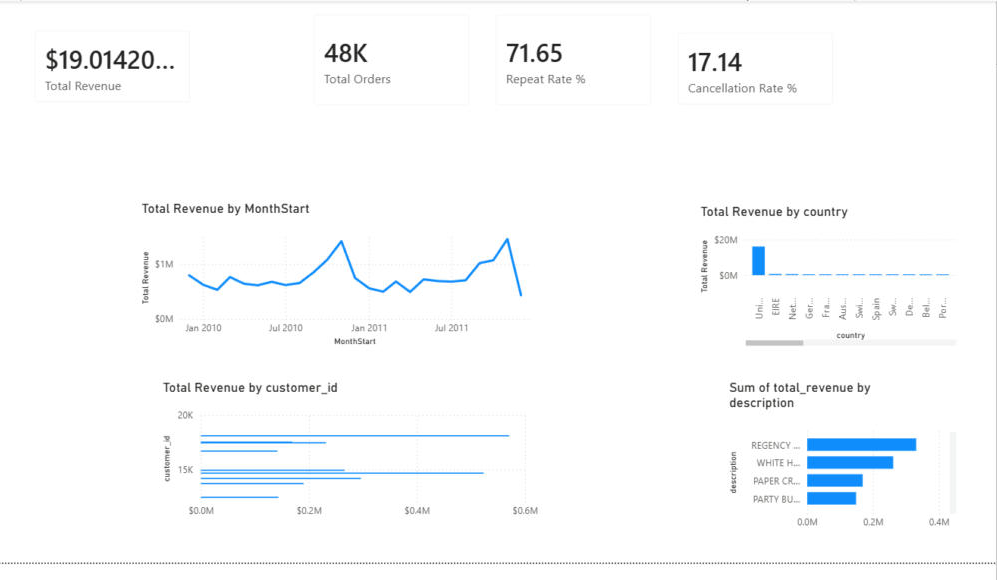

What the dashboard file says about the page in this screenshot:
{"tool":"powerbi","page":{"name":"Page 1","canvas":[1280,720],"ordinal":0},"visuals":[{"type":"cardVisual","fields":{"Data":["orders.Cancellation Rate %"]},"box":[854.8,23.7,233.4,126.4],"z":0},{"type":"cardVisual","fields":{"Data":["orders.Total Revenue"]},"box":[29.7,20,233.4,126.4],"z":1000},{"type":"cardVisual","fields":{"Data":["orders.Total Orders"]},"box":[387.9,0,233,150],"z":2000},{"type":"cardVisual","fields":{"Data":["orders.Repeat Rate %"]},"box":[621.4,0,233,150],"z":3000},{"type":"lineChart","fields":{"Category":["orders.MonthStart"],"Y":["orders.Total Revenue"]},"box":[179.3,256,518.8,190.6],"z":4000},{"type":"columnChart","fields":{"Category":["orders.country"],"Y":["orders.Total Revenue"]},"box":[895.8,266.5,338.3,187.2],"z":5000},{"type":"barChart","fields":{"Category":["products.description"],"Y":["Sum(products.total_revenue)"]},"box":[932.7,484.9,301.1,200.7],"z":6000},{"type":"barChart","fields":{"Category":["orders.customer_id"],"Y":["orders.Total Revenue"]},"box":[206.4,484.9,491.7,186.1],"z":7000}]}

Visuals, with their boxes on the page's 1280x720 design canvas (x1, y1, x2, y2). These are canvas units, not pixel positions in the 997x580 screenshot, which may show the page scaled, cropped or inside an application window:
cardVisual - orders.Cancellation Rate %: 855/24/1088/150
cardVisual - orders.Total Revenue: 30/20/263/146
cardVisual - orders.Total Orders: 388/0/621/150
cardVisual - orders.Repeat Rate %: 621/0/854/150
lineChart - orders.MonthStart x orders.Total Revenue: 179/256/698/447
columnChart - orders.country x orders.Total Revenue: 896/266/1234/454
barChart - products.description x Sum(products.total_revenue): 933/485/1234/686
barChart - orders.customer_id x orders.Total Revenue: 206/485/698/671
